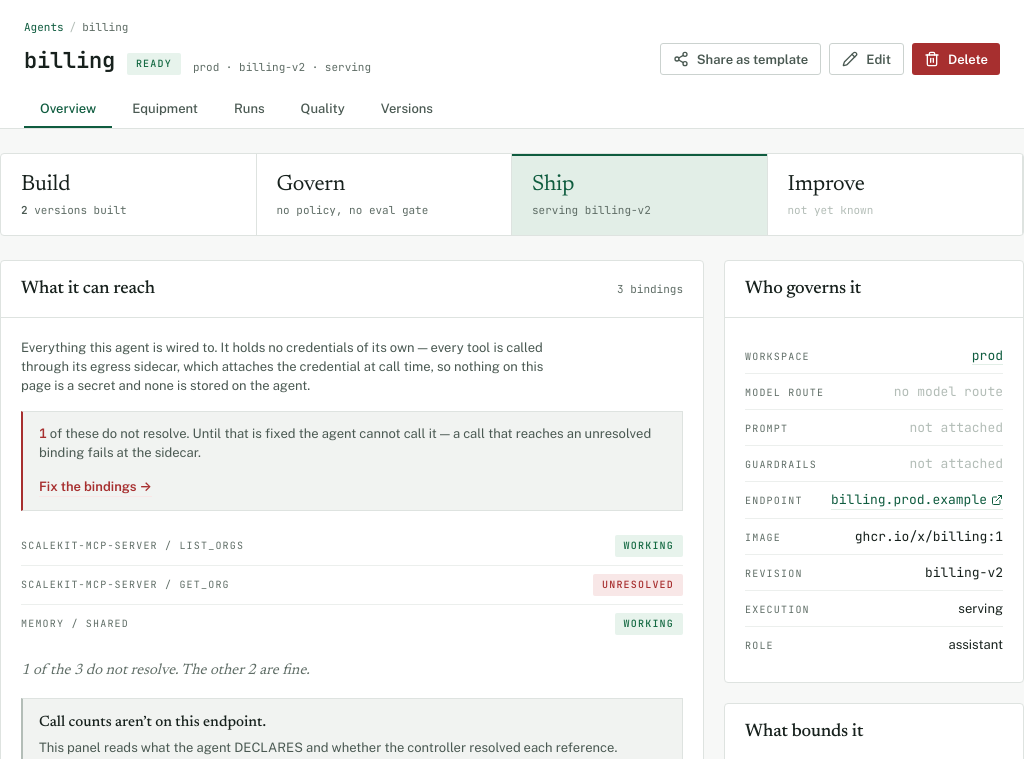
Test: AgentDetailPage (landing page) › groups tool bindings by MCP server, collapsed by default, with a ready rollup
Click the tab "Equipment" at (165, 110), box [116,91,214,128]
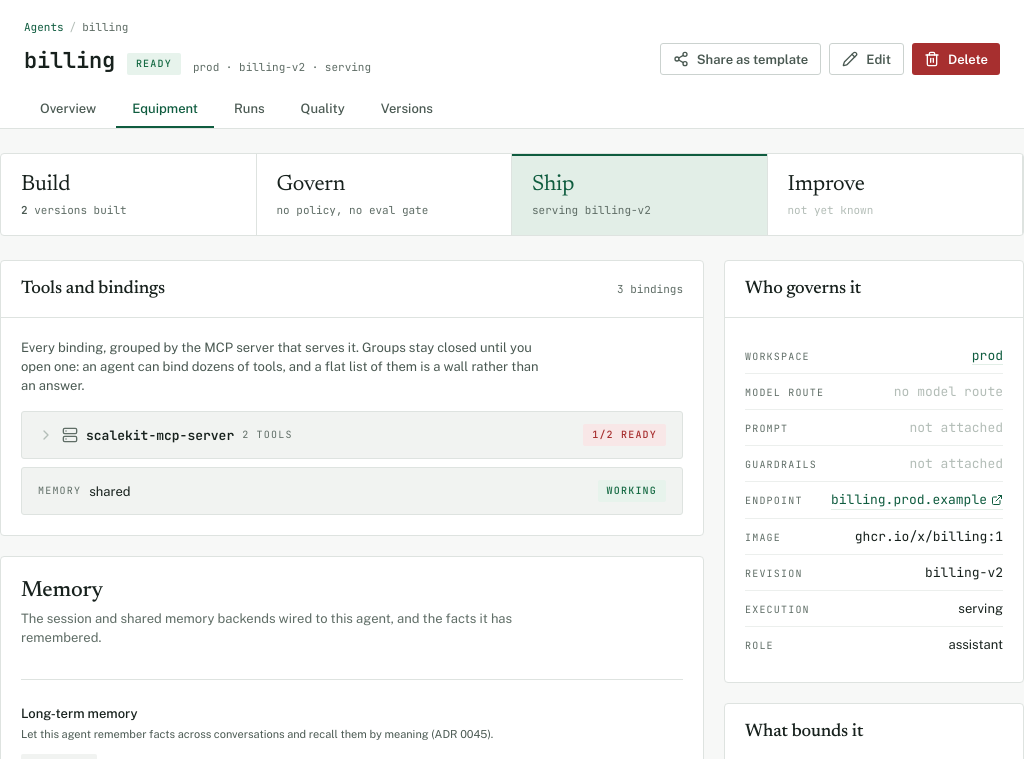
Now the element with test id "binding-group-scalekit-mcp-server" shows "scalekit-mcp-server", box [86,426,234,444]
Now the element with test id "binding-group-scalekit-mcp-server" shows "2 tools", box [21,411,683,459]
Now the element with test id "binding-group-scalekit-mcp-server" shows "1/2 ready", box [592,428,657,441]
